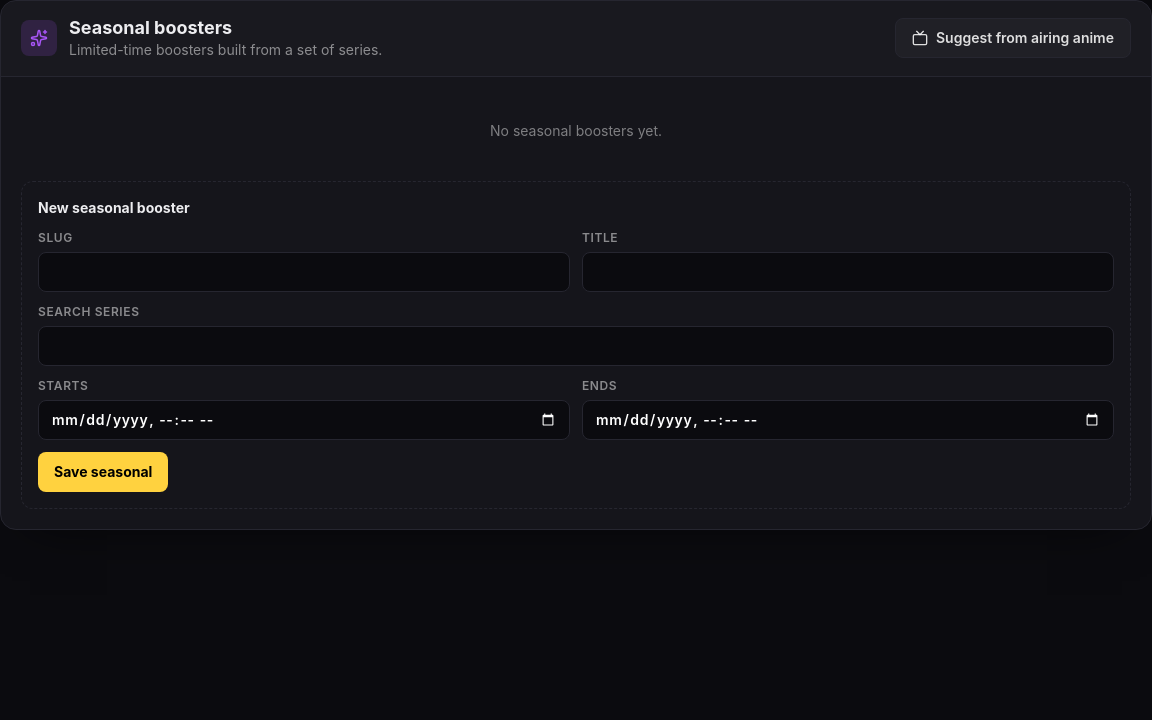
Test: SeasonalPanel › validates locally (Winter)
Type "winter" into the field labelled "Slug".
click(304, 272); type("winter")  # box [38,252,570,292]
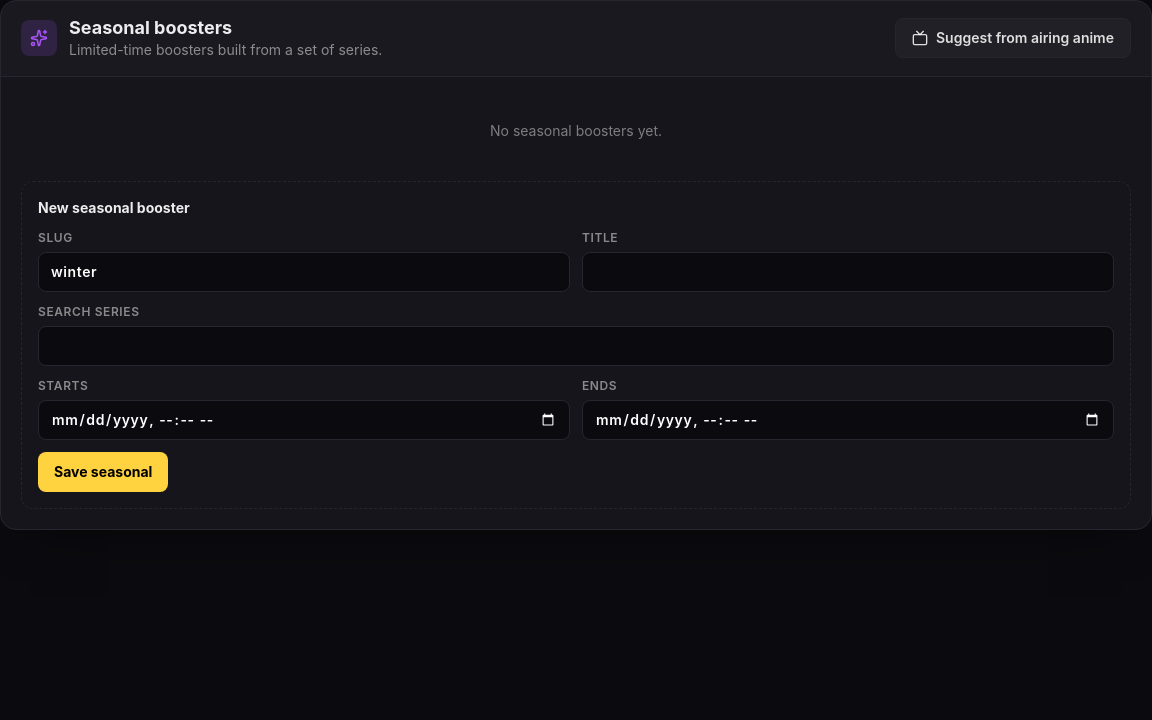
Type "Winter" into the field labelled "Title".
click(848, 272); type("Winter")  # box [582,252,1114,292]
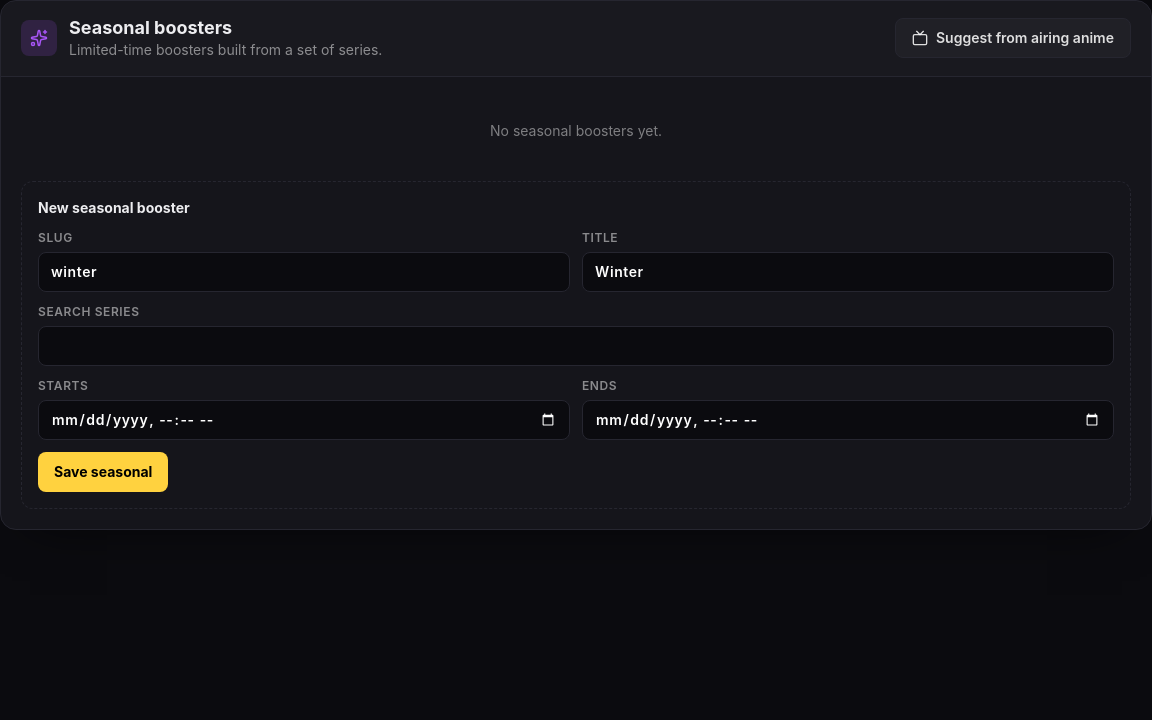
Type "2026-12-01T10:00" into the field labelled "Starts".
click(304, 420); type("2026-12-01T10:00")  # box [38,400,570,440]
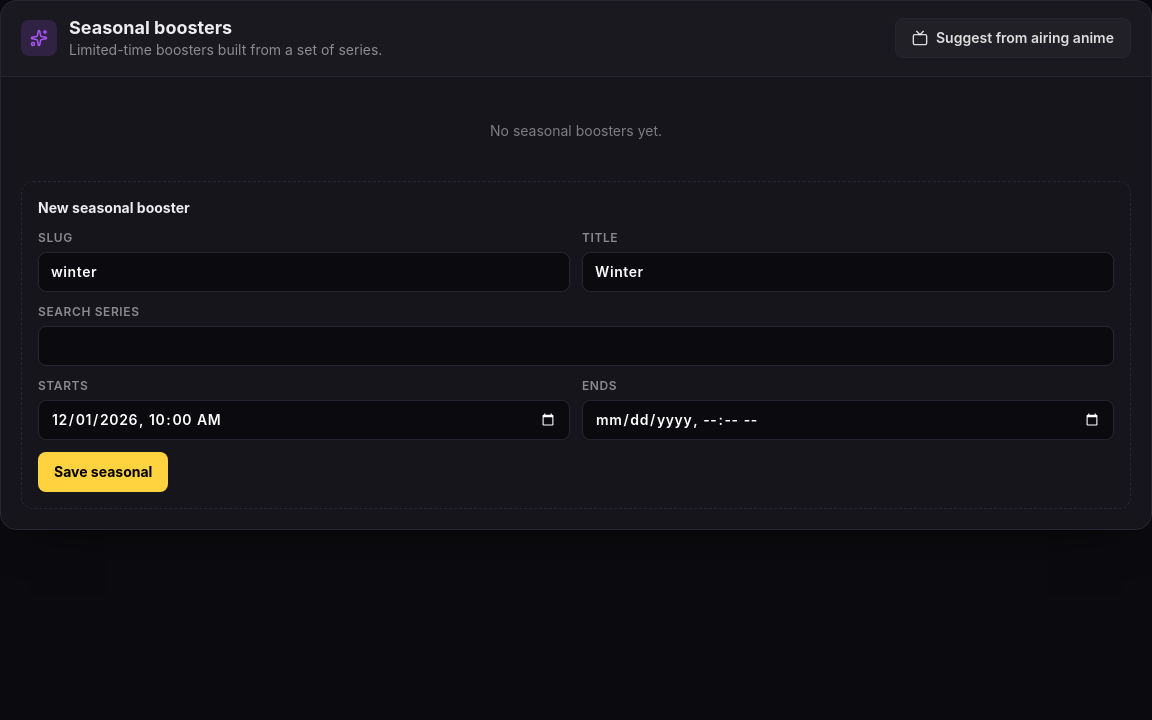
Type "2026-12-02T10:00" into the field labelled "Ends".
click(848, 420); type("2026-12-02T10:00")  # box [582,400,1114,440]
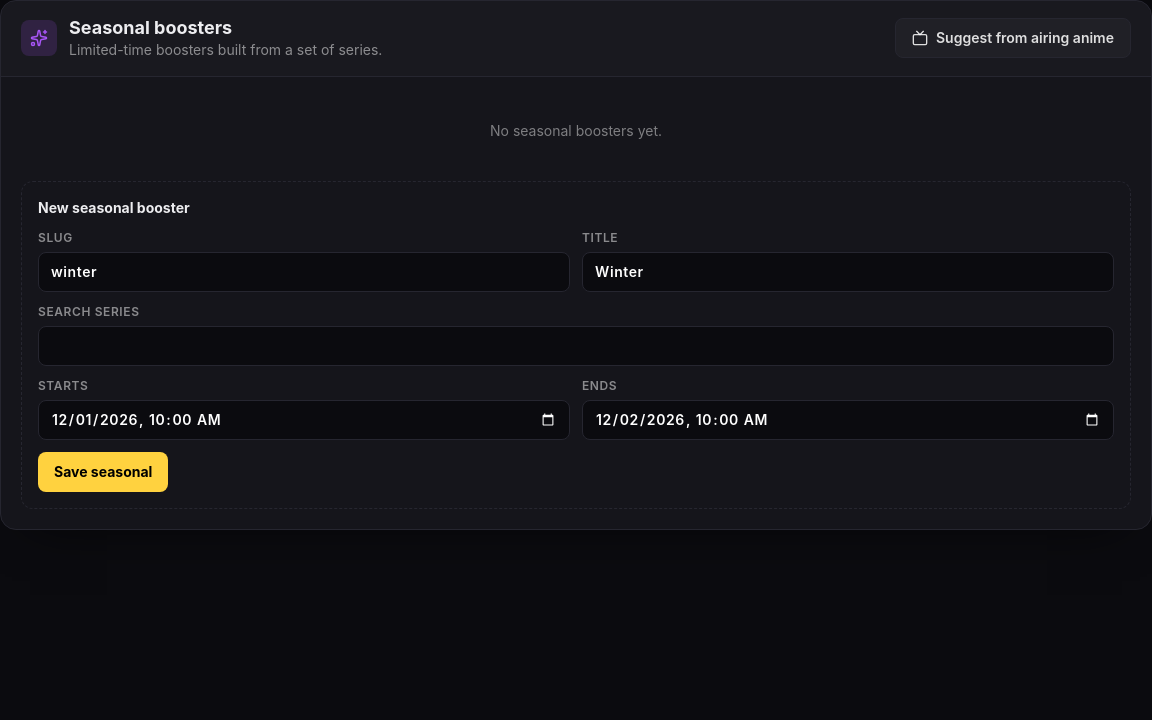
Click the button "Save seasonal".
click(103, 472)  # box [38,452,168,492]
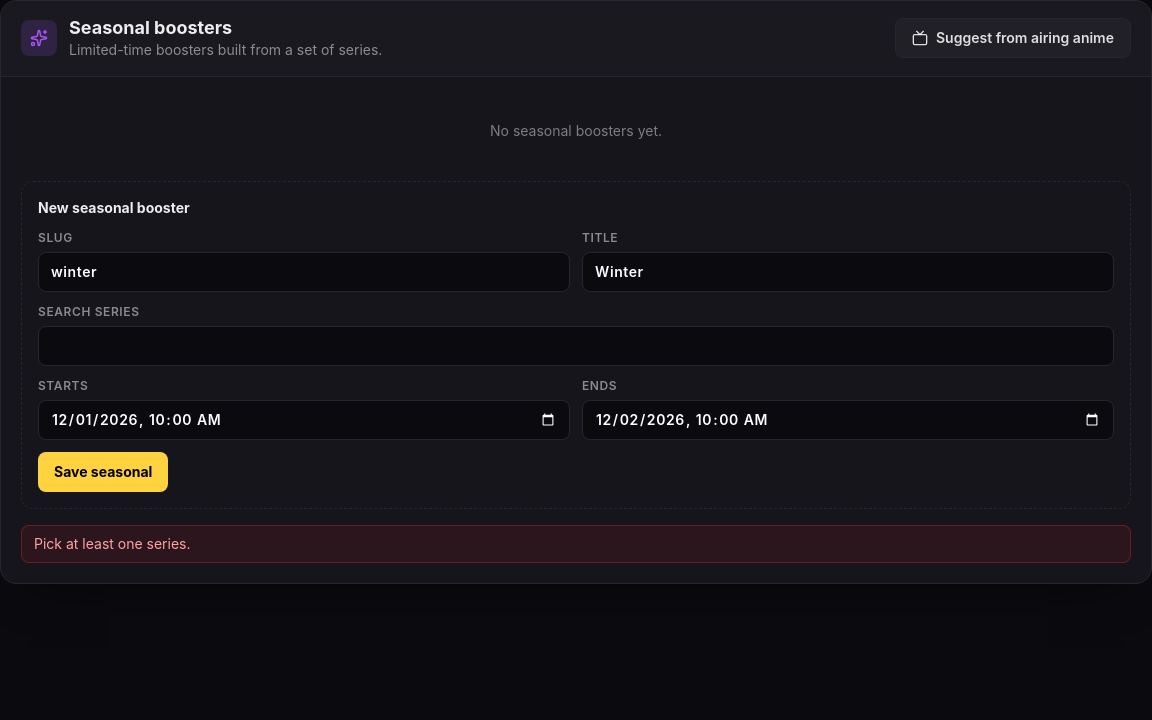
Expected: the text "Pick at least one series." is shown, [21,524,1131,562]
